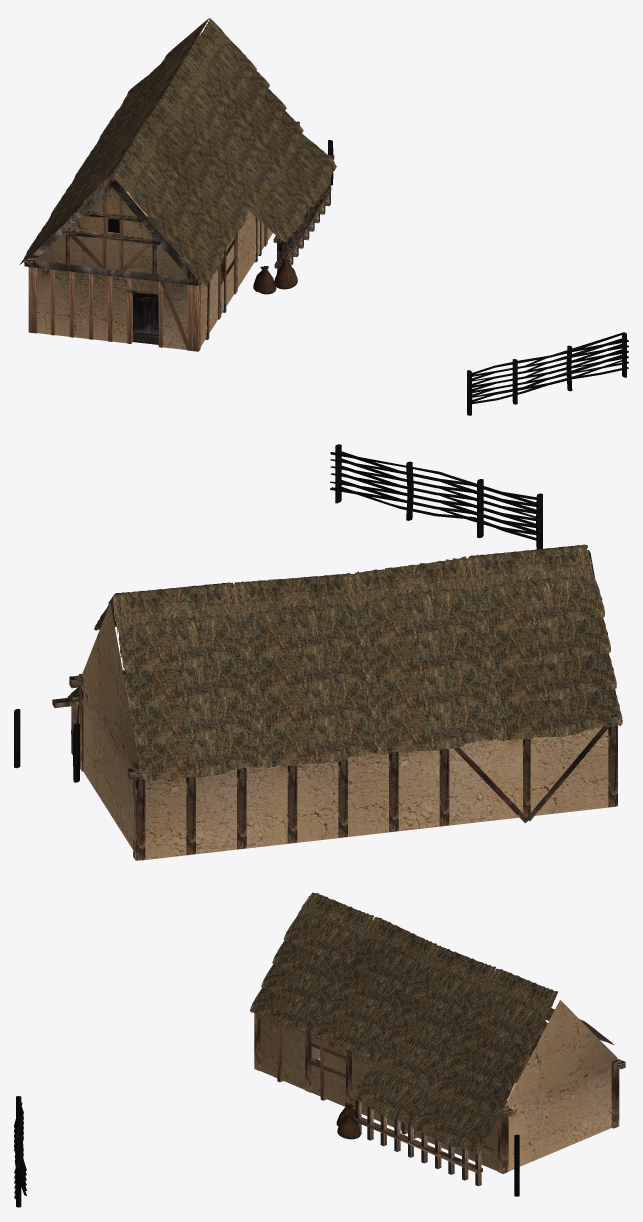
Rendered from h_khata.glb.
3 views of the same model, one above another, from view 1: azimuth 30°, elevation 25°; view 2: azimuth 150°, elevation 25°; view 3: azimuth 270°, elevation 25° (orthographic). The views are drawn at different scales.
Visible parts, largest first — view 1: body|paille, body|torchis, body|04___Default, body|01___Default, body|06___Default, body|material; view 2: body|paille, body|torchis, body|04___Default, body|01___Default; view 3: body|paille, body|torchis, body|04___Default, body|01___Default, body|material.
Part boxes in pixels (bbox=[...]): body|paille: bbox=[20, 18, 336, 286]; body|torchis: bbox=[35, 34, 272, 349]; body|04___Default: bbox=[24, 121, 334, 351]; body|01___Default: bbox=[328, 140, 628, 415]; body|06___Default: bbox=[133, 293, 158, 344]; body|material: bbox=[253, 259, 297, 294]; body|paille: bbox=[66, 544, 622, 781]; body|torchis: bbox=[81, 603, 615, 860]; body|04___Default: bbox=[52, 550, 619, 860]; body|01___Default: bbox=[14, 444, 542, 782]; body|paille: bbox=[250, 892, 613, 1154]; body|torchis: bbox=[260, 1000, 616, 1171]; body|04___Default: bbox=[254, 1013, 625, 1186]; body|01___Default: bbox=[14, 1096, 519, 1207]; body|material: bbox=[336, 1102, 360, 1139].
Size of the model in its own units: 9.64 by 3.86 by 13.31.
Materials: 8 (7 with a texture image).
